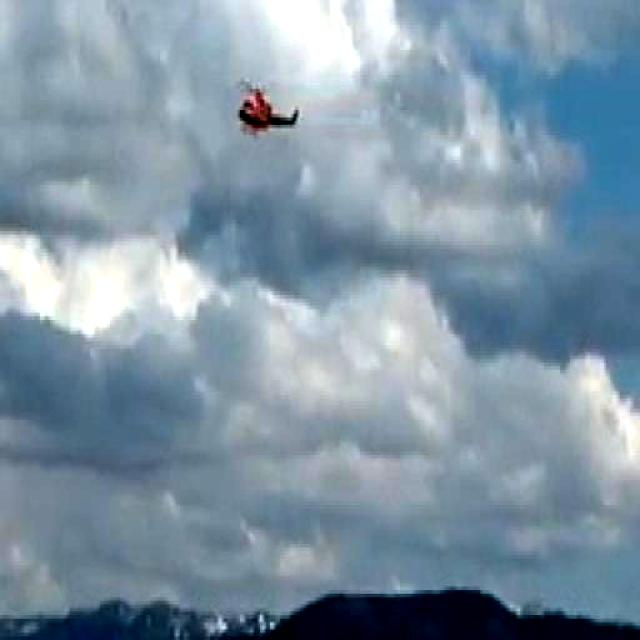drone: (230, 78, 308, 149)
